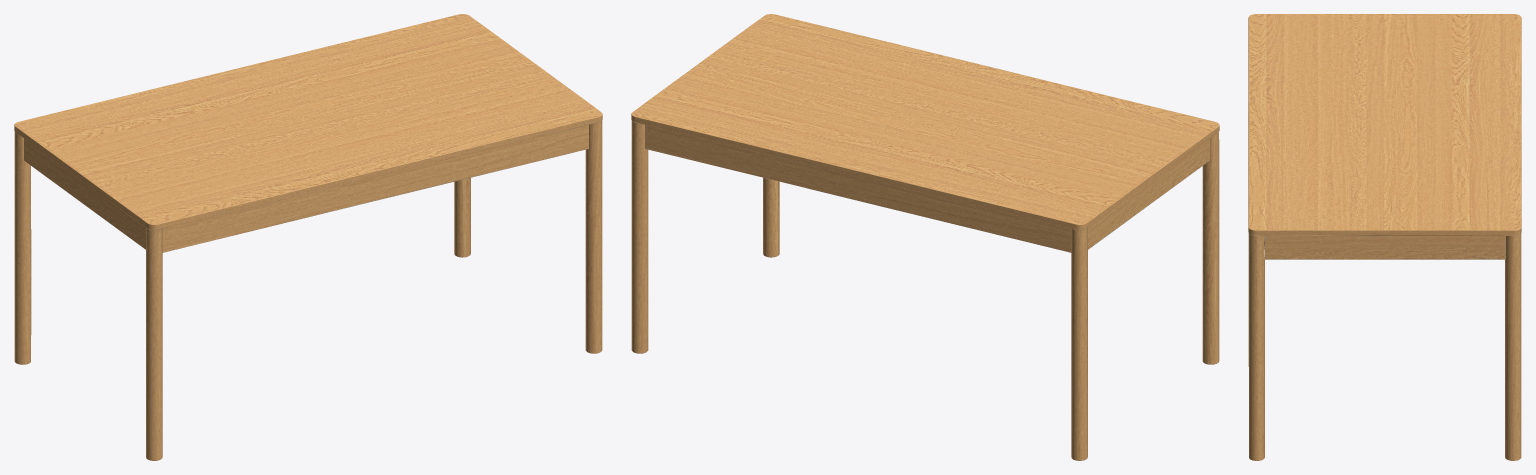
Rendered from tonstad_sto_00593879.glb.
The picture shows the model from 3 angles, left to right: view 1: azimuth 30°, elevation 25°; view 2: azimuth 150°, elevation 25°; view 3: azimuth 270°, elevation 25°; orthographic projection. The views are drawn at different scales.
Visible parts, largest first — view 1: tonstad_sto_00593879; view 2: tonstad_sto_00593879; view 3: tonstad_sto_00593879.
Boxes of the visible parts, x1=… form: tonstad_sto_00593879: x1=14, y1=14, x2=602, y2=460; tonstad_sto_00593879: x1=631, y1=14, x2=1219, y2=460; tonstad_sto_00593879: x1=1248, y1=14, x2=1521, y2=460.
Bounding box in the file's own units: 1.5 × 0.7495 × 0.8001.
1 material, 1 textured.
